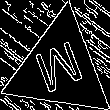M_S: (31, 36, 88, 100)
